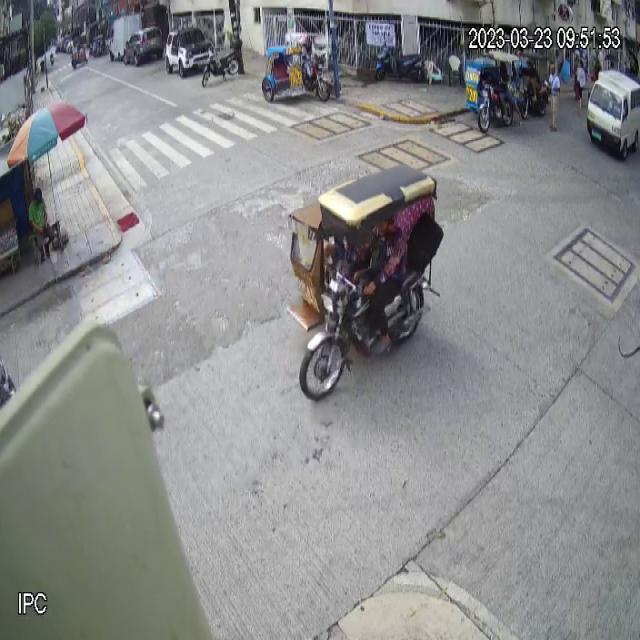Tricycle: (286, 161, 444, 402), (260, 29, 332, 105), (466, 50, 516, 134)
Van: (586, 68, 640, 159)
